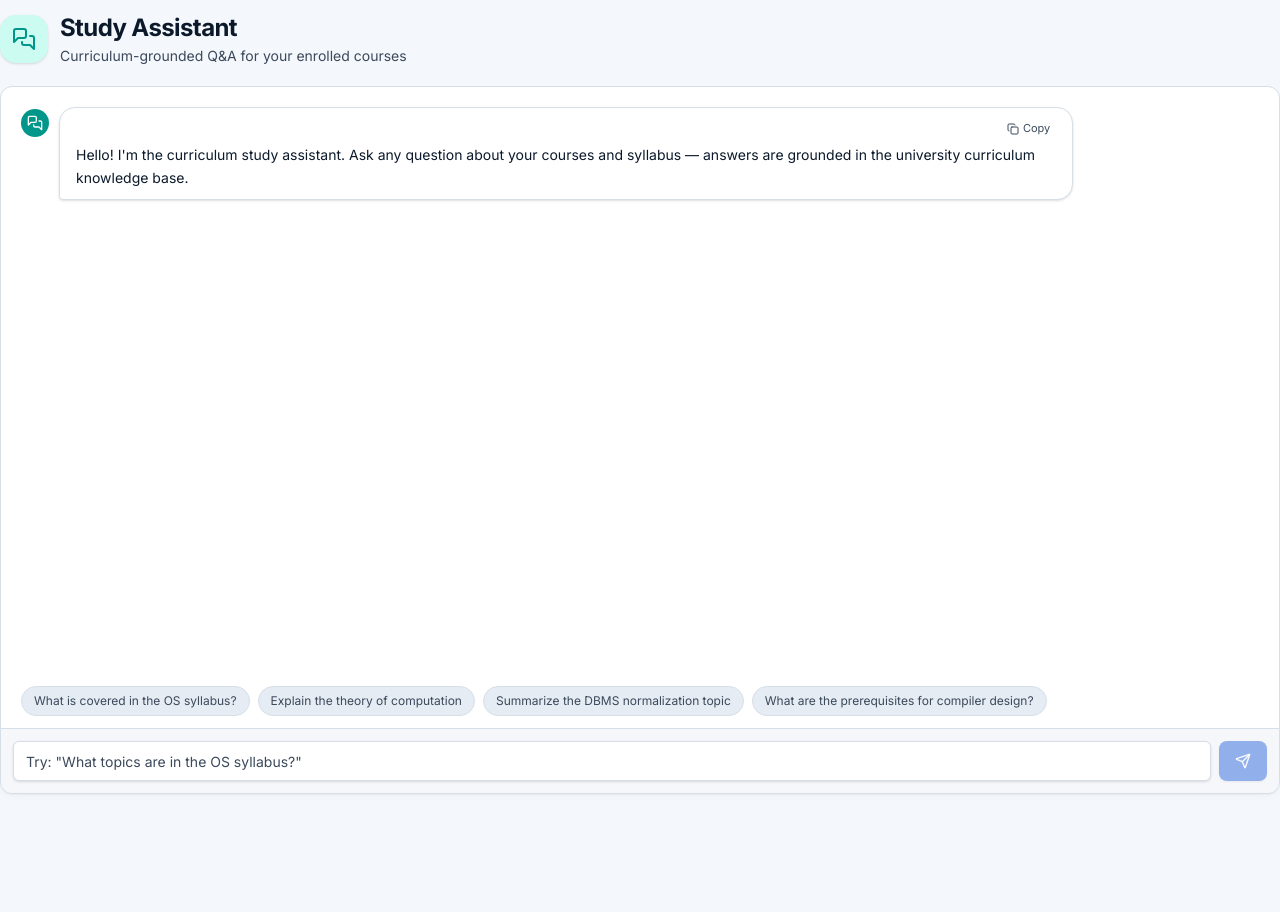
Test: StudyAssist › streams an answer when a suggestion is clicked
The width and height of the screenshot is (1280, 912).
Click the button "What is covered in the OS syllabus?".
click(135, 701)  # box [21, 686, 250, 716]
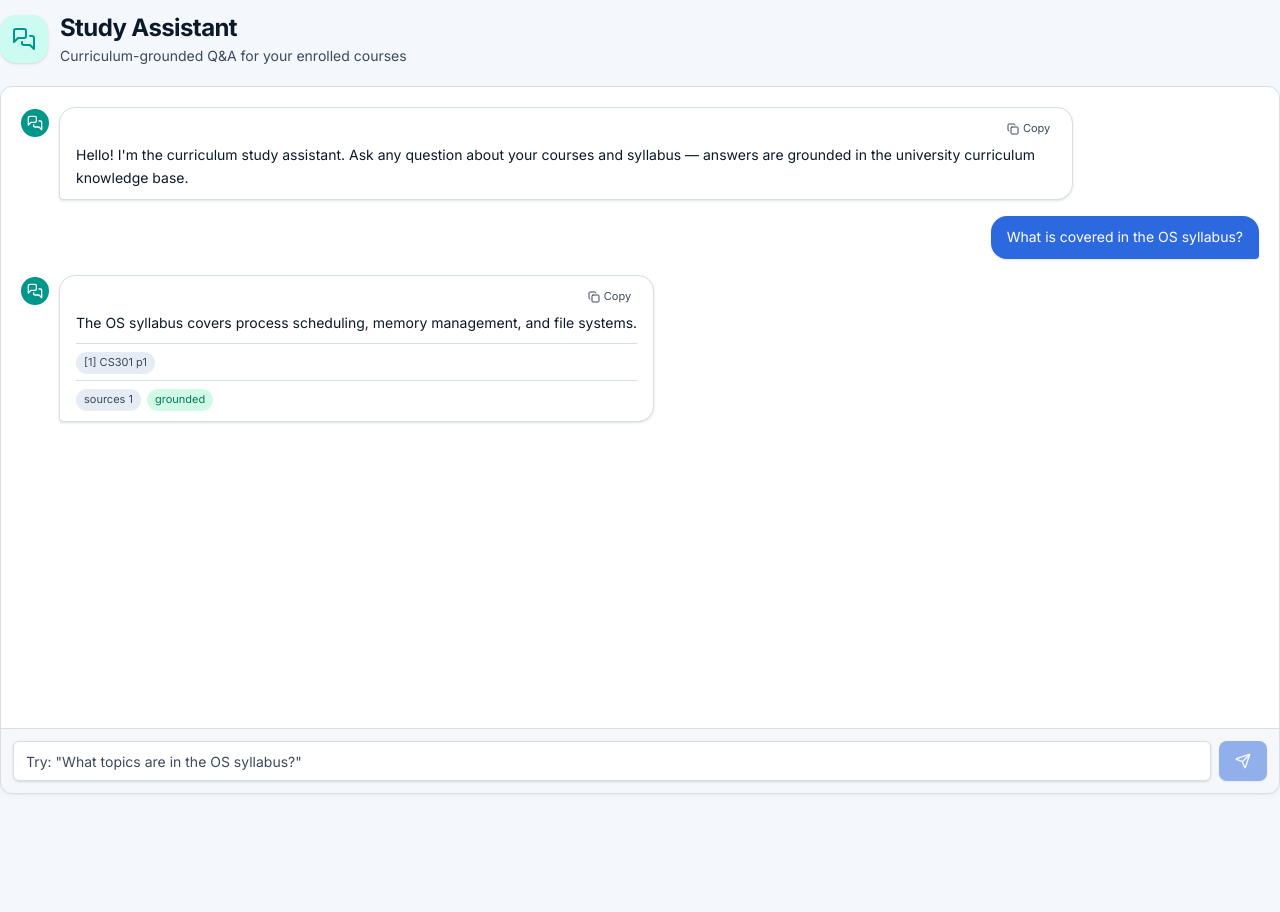
Now the text "process scheduling" is shown, box [76, 314, 637, 331]
Now the text "[1] CS301 p1" is shown, box [76, 352, 155, 374]
